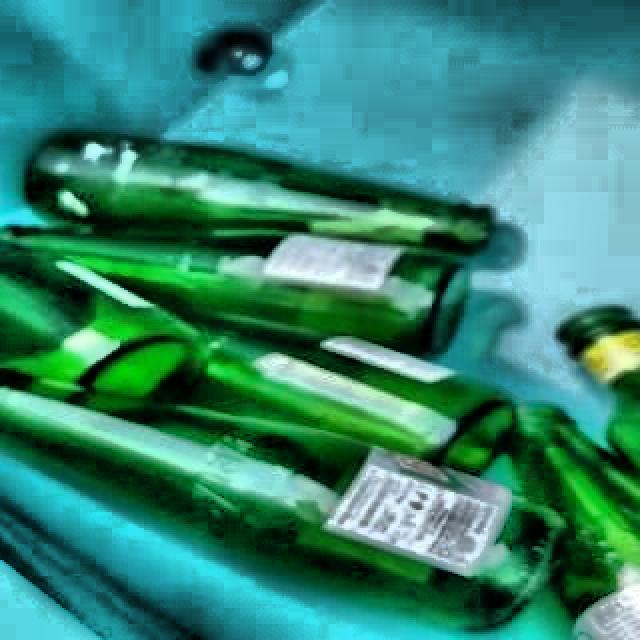glass: (0, 132, 640, 640)
